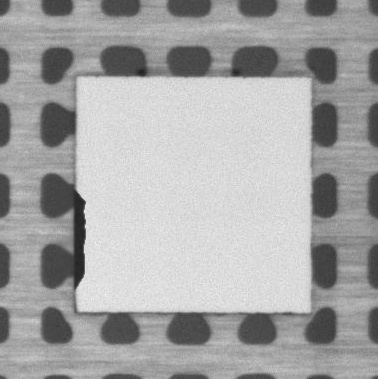DIE_BROKEN: (71, 192, 88, 289)
